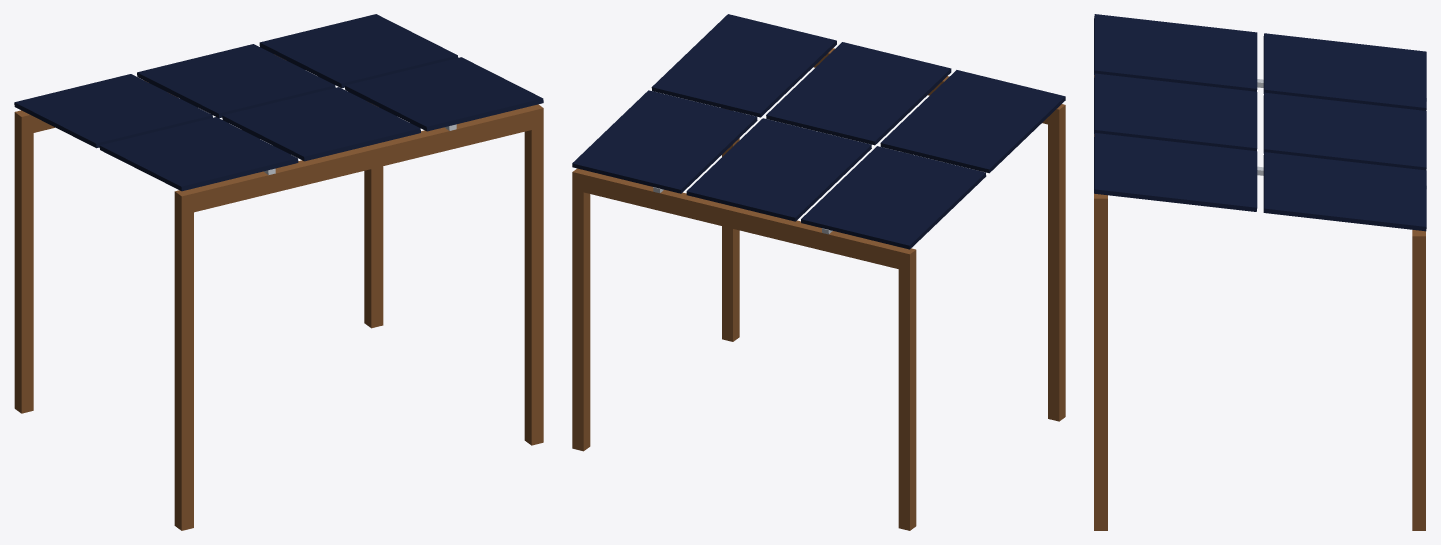
Rendered from sample_sketchup_pergola.obj.
3 views of the same model, side by side, from view 1: azimuth 30°, elevation 25°; view 2: azimuth 150°, elevation 25°; view 3: azimuth 270°, elevation 25° (orthographic). The views are drawn at different scales.
Parts seen in each view (by area): view 1: part_4, part_9, part_8, part_10, part_12, part_13, part_11, part_0, part_2, part_1, part_3, part_5; view 2: part_12, part_13, part_9, part_11, part_8, part_10, part_5, part_0, part_1, part_3, part_2; view 3: part_13, part_10, part_8, part_9, part_12, part_11, part_2, part_3.
Boxes of the visible parts, x1,y1,x2,y2 form: part_4: (174, 104, 543, 215); part_9: (222, 87, 420, 161); part_8: (99, 117, 298, 191); part_10: (345, 57, 543, 131); part_12: (137, 44, 335, 118); part_13: (259, 14, 458, 88); part_11: (14, 74, 212, 148); part_0: (174, 210, 193, 530); part_2: (524, 127, 543, 445); part_1: (14, 131, 33, 413); part_3: (364, 166, 383, 328); part_5: (14, 80, 177, 135); part_12: (686, 118, 871, 221); part_13: (572, 90, 757, 193); part_9: (766, 42, 951, 145); part_11: (801, 146, 986, 249); part_8: (880, 70, 1065, 173); part_10: (651, 14, 836, 117); part_5: (572, 168, 916, 271); part_0: (1048, 123, 1065, 421); part_1: (898, 267, 916, 530); part_3: (572, 189, 590, 451); part_2: (722, 138, 739, 341); part_13: (1263, 152, 1426, 231); part_10: (1094, 133, 1257, 211); part_8: (1094, 14, 1257, 91); part_9: (1094, 73, 1257, 151); part_12: (1263, 92, 1426, 170); part_11: (1263, 33, 1426, 110); part_2: (1094, 217, 1107, 530); part_3: (1412, 255, 1425, 530).
Size of the model in its own units: 118 by 107 by 94.68.
